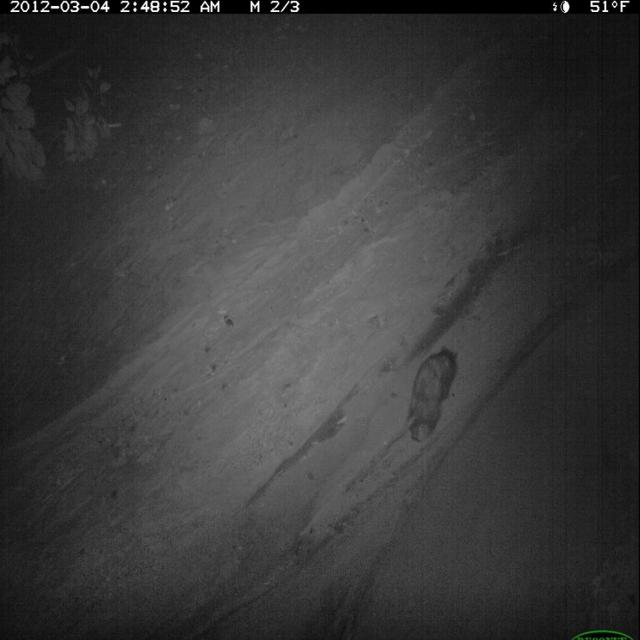opossum: (377, 344, 463, 464)
